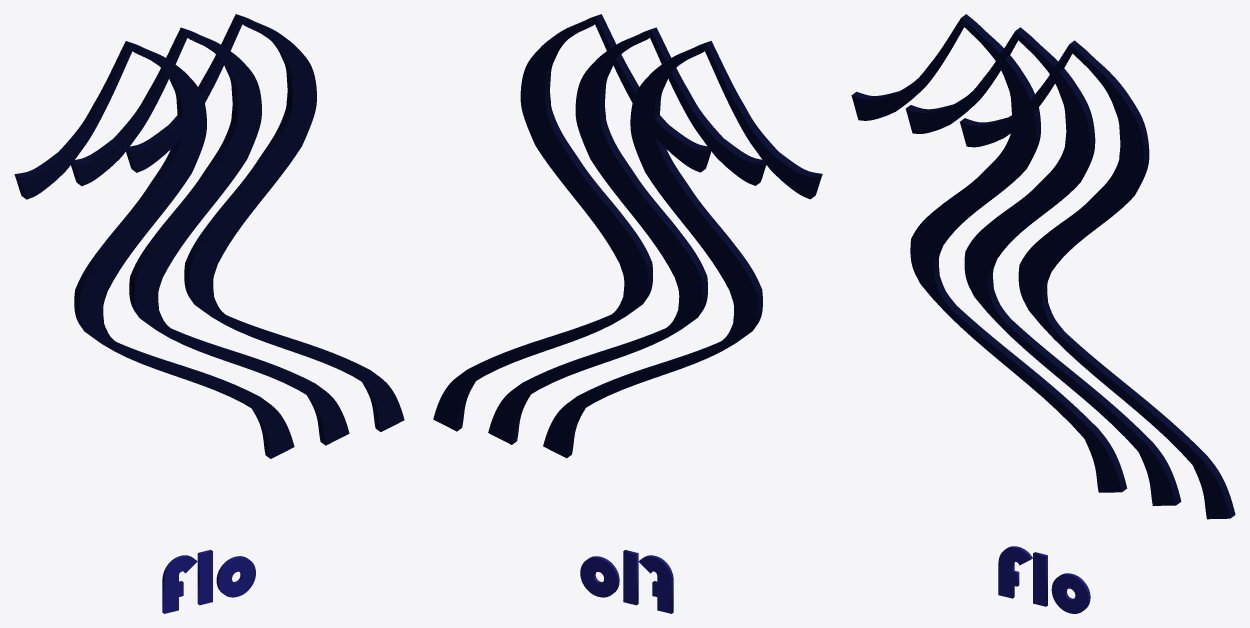
File: flo.gltf
3 views of the same model, side by side, from view 1: azimuth 30°, elevation 25°; view 2: azimuth 150°, elevation 25°; view 3: azimuth 330°, elevation 25° (orthographic).
Visible parts, largest first — view 1: flo_logo, flo.001; view 2: flo_logo, flo.001; view 3: flo_logo, flo.001.
Boxes of the visible parts, x1=… form: flo_logo: x1=14, y1=14, x2=404, y2=458; flo.001: x1=162, y1=550, x2=255, y2=613; flo_logo: x1=433, y1=14, x2=822, y2=458; flo.001: x1=580, y1=550, x2=673, y2=613; flo_logo: x1=851, y1=14, x2=1235, y2=519; flo.001: x1=998, y1=546, x2=1090, y2=613.
Size of the model in its own units: 0.9803 by 1.41 by 0.0231.
